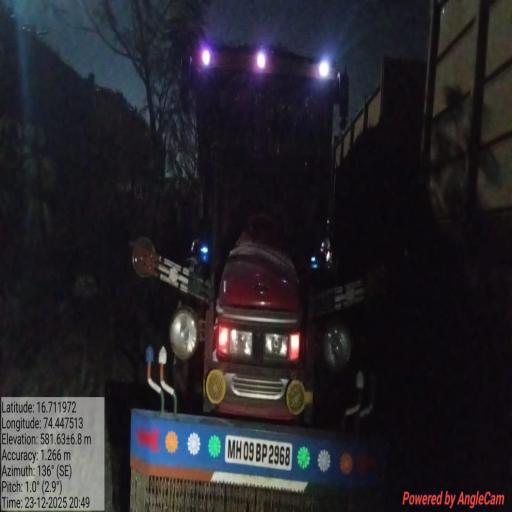number_plate: (223, 438, 296, 471)
